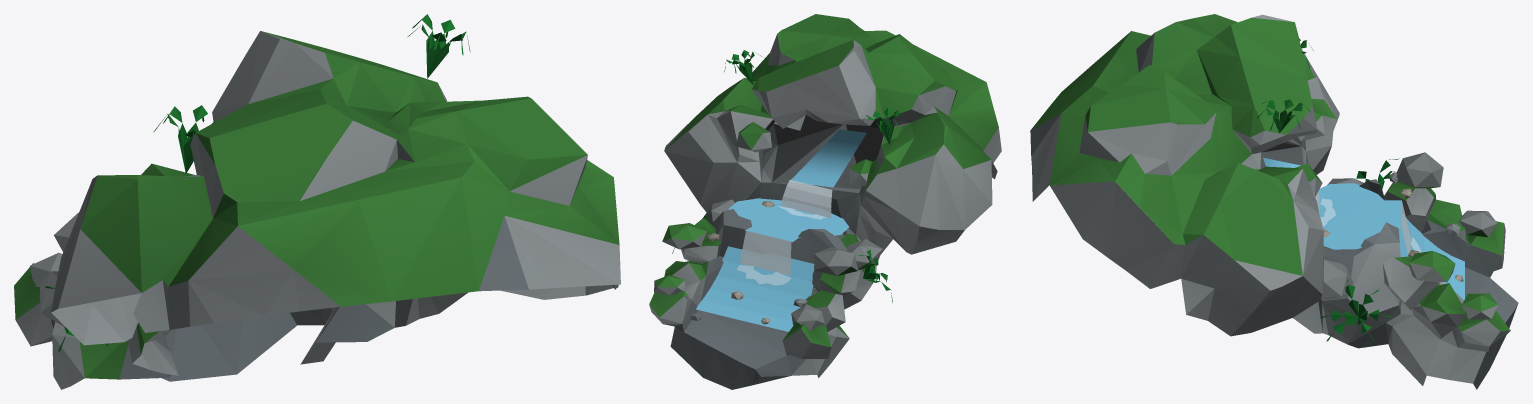
Rendered from spring_cave_low.glb.
The picture shows the model from 3 angles, left to right: view 1: azimuth 30°, elevation 25°; view 2: azimuth 150°, elevation 25°; view 3: azimuth 270°, elevation 25°; orthographic projection. The views are drawn at different scales.
Visible parts, largest first — view 1: rock; view 2: rock, water, water_fall, water_foam; view 3: rock, water.
Boxes of the visible parts, left/top/right/bottom form: rock: left=14, top=14, right=620, bottom=389; rock: left=649, top=14, right=1001, bottom=389; water: left=696, top=129, right=866, bottom=331; water_fall: left=740, top=179, right=832, bottom=275; water_foam: left=737, top=206, right=825, bottom=285; rock: left=1030, top=14, right=1518, bottom=389; water: left=1263, top=157, right=1464, bottom=299.
Size of the model in its own units: 9.29 by 7.73 by 10.12.
